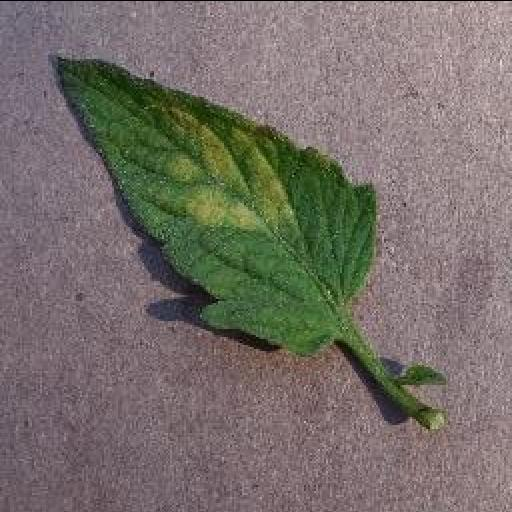disease_tomato: (52, 54, 382, 360)
